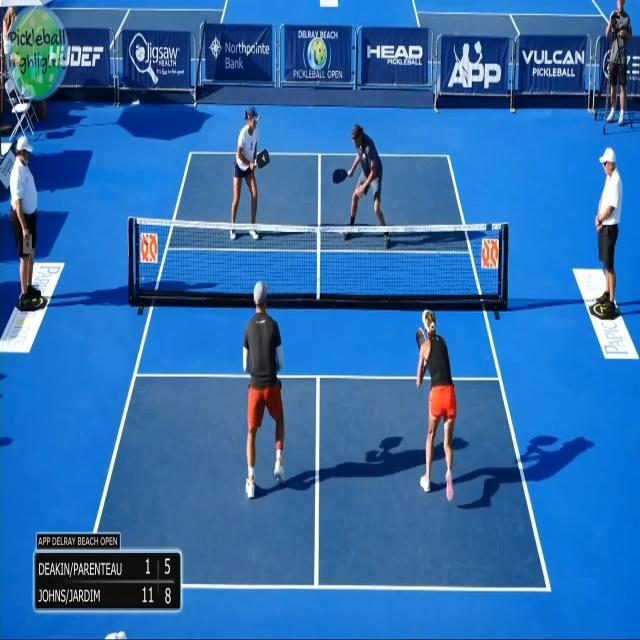Court: (87, 155, 549, 592)
